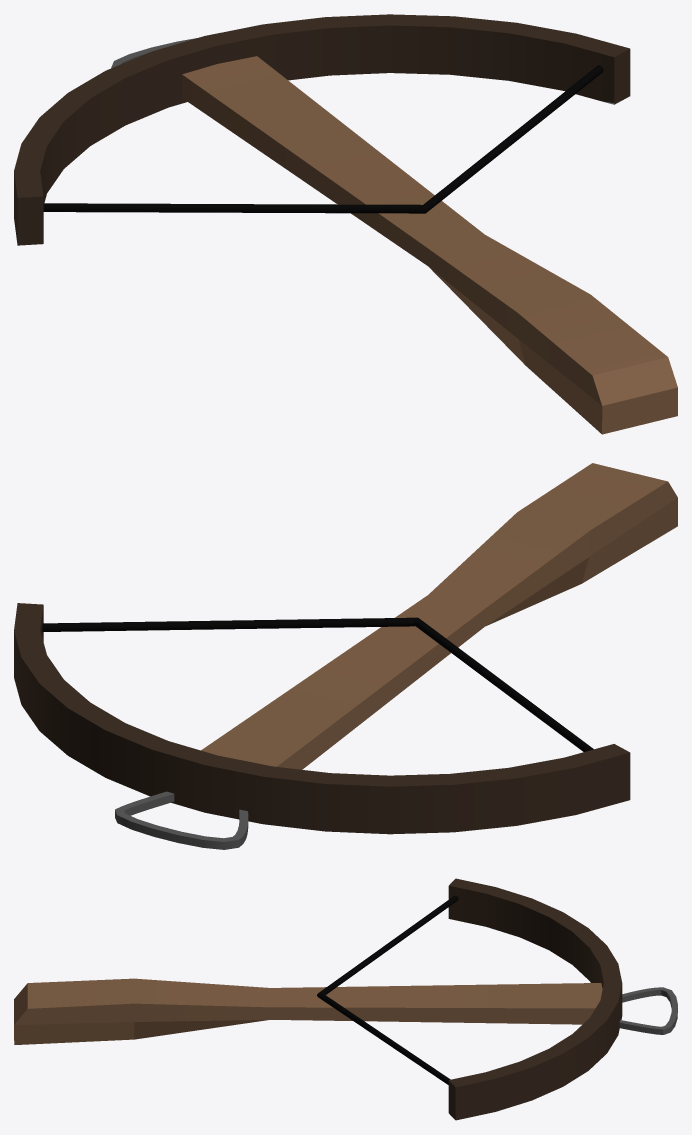
Rendered from Crossbow.FBX.
3 renders of one model, top to bottom at view 1: azimuth 30°, elevation 25°; view 2: azimuth 150°, elevation 25°; view 3: azimuth 270°, elevation 25°, orthographic. The views are drawn at different scales.
Visible parts, largest first — view 1: Box001; view 2: Box001; view 3: Box001.
Part boxes in pixels (x1,y1,x2,y2): Box001: (14,14,677,434); Box001: (14,463,677,849); Box001: (14,878,677,1120).
Size of the model in its own units: 0.809 by 0.0892 by 1.09.
